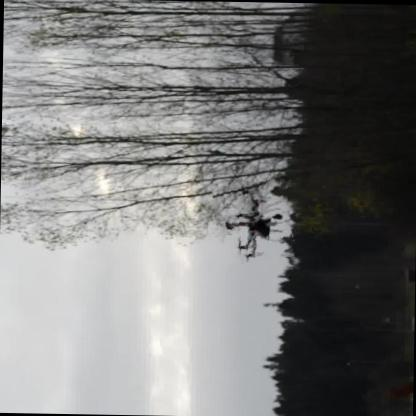drone: (213, 179, 293, 262)
